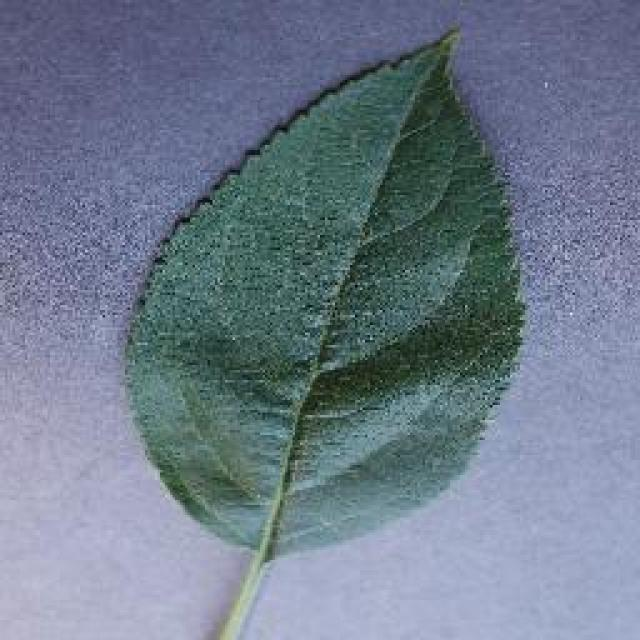apple healthy: (118, 22, 528, 562)
